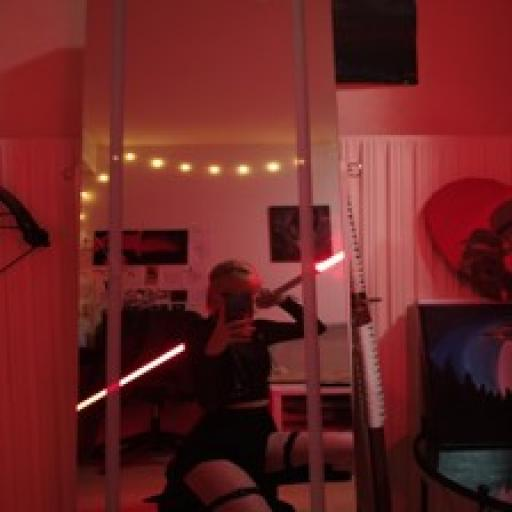lightsaber: (77, 248, 349, 410)
